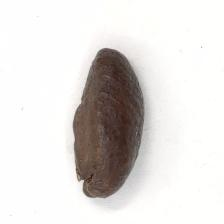NG: (74, 47, 143, 195)
